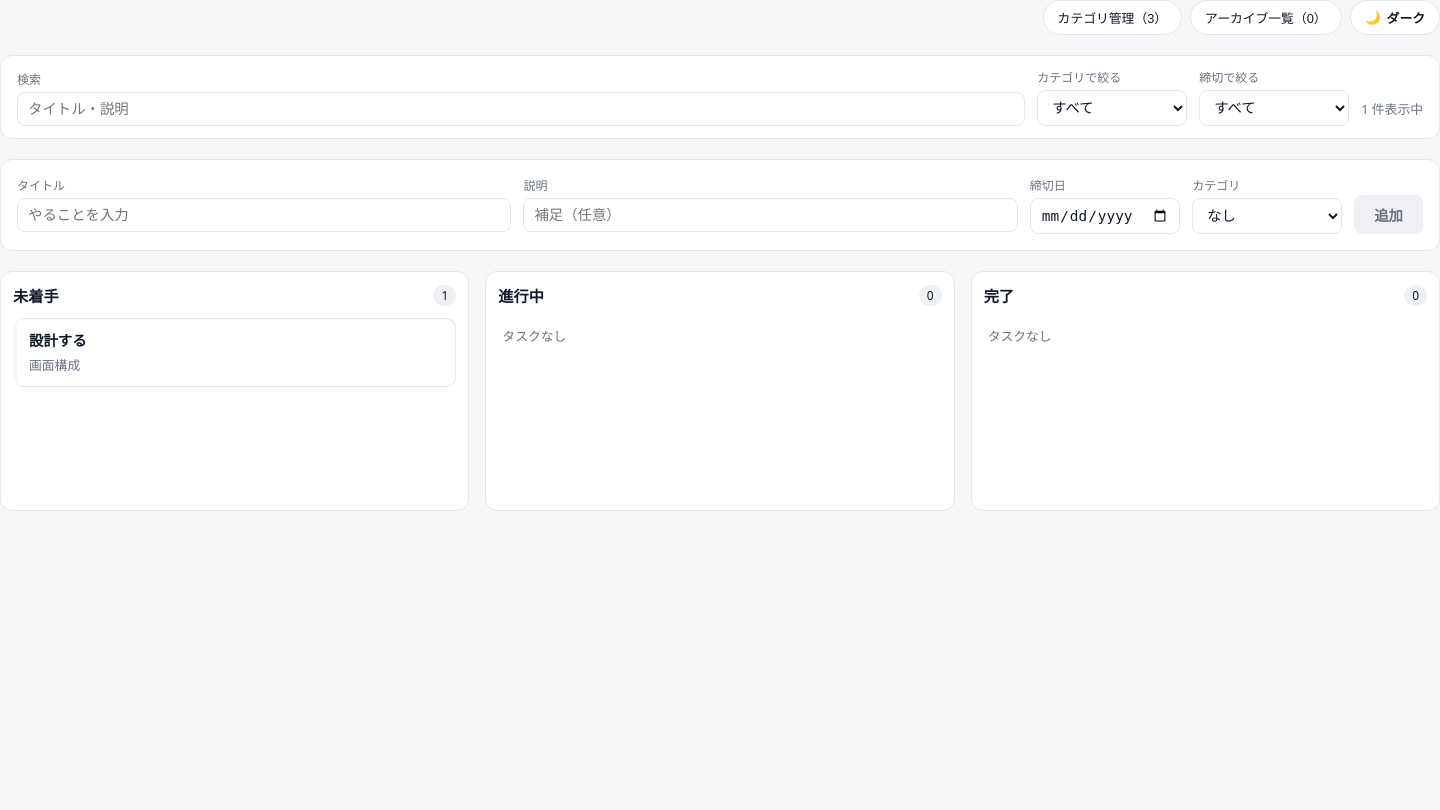
Test case: KanbanBoard › 詳細から削除するとボードから消える
Click the button with test id "task-1" at (58, 341), box [13,318,456,387]
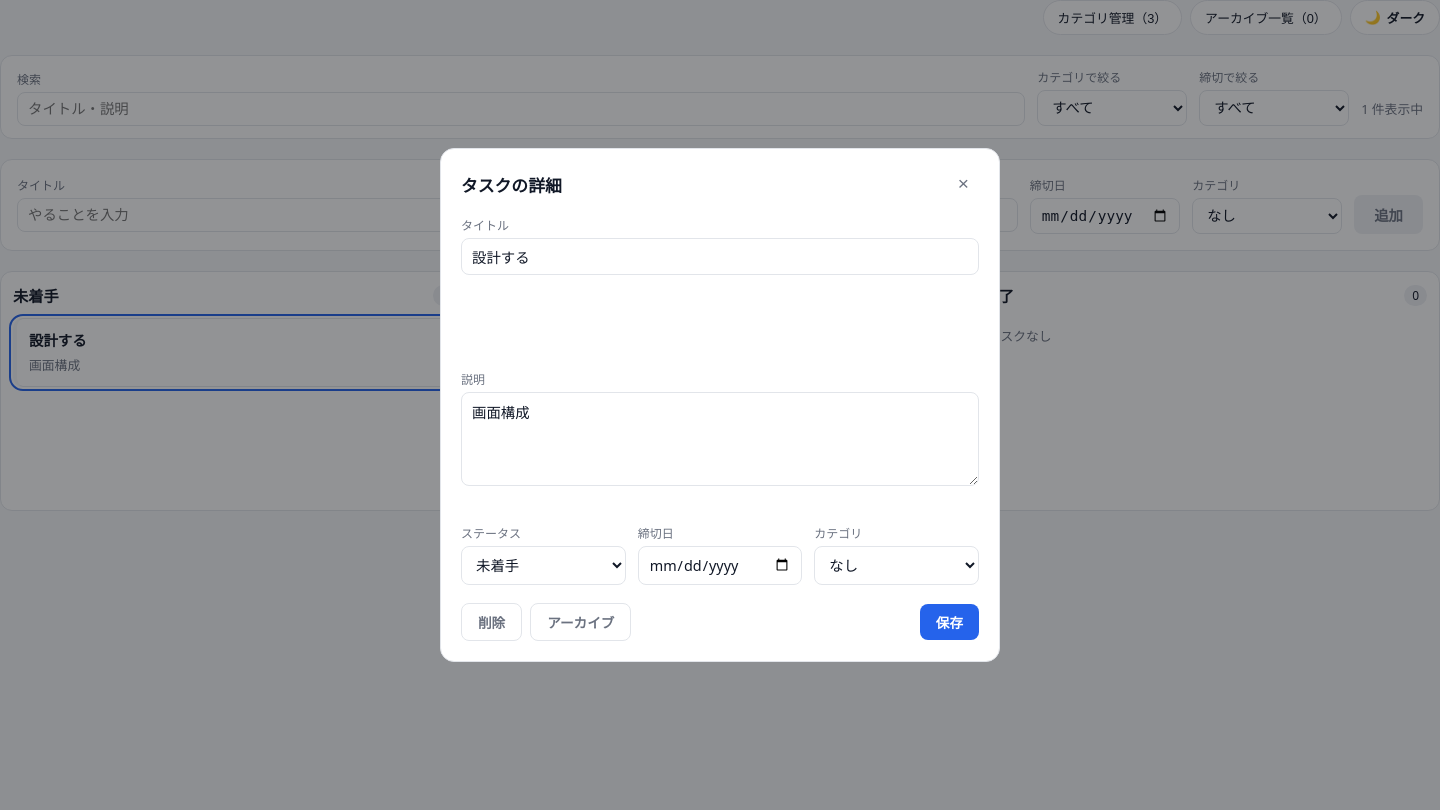
Click the button "削除" at (492, 622), box [461,603,522,641]
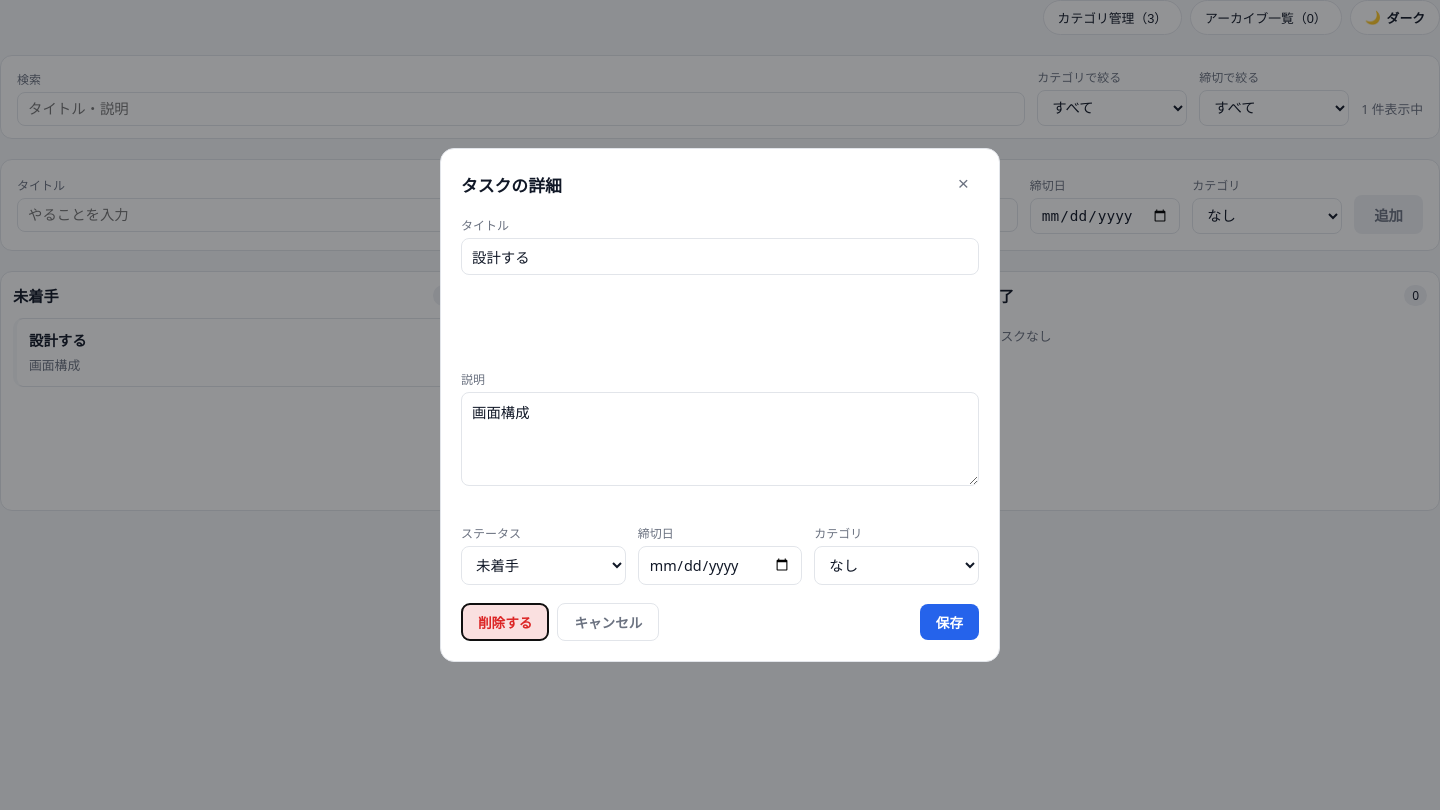
Click the button "削除する" at (505, 622), box [461,603,549,641]
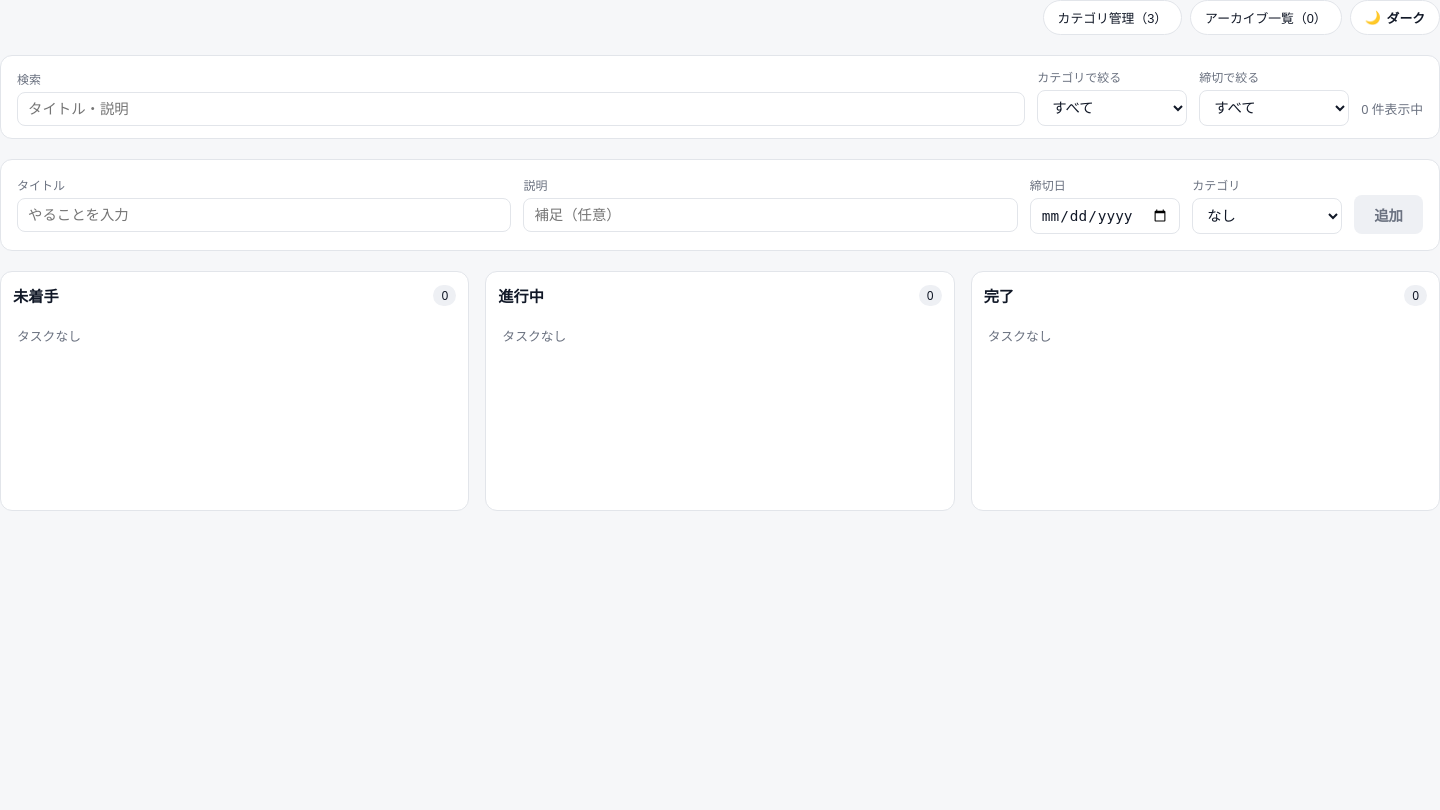
Expected: the dialog is gone
Expected: the button with test id "task-1" is gone
